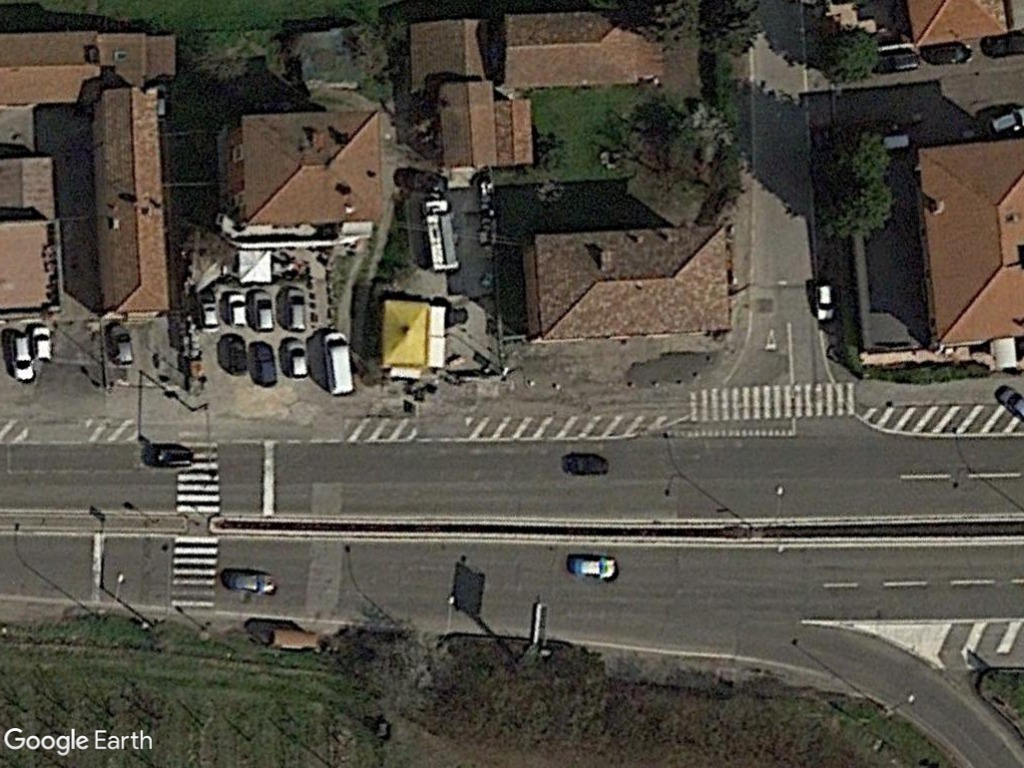car: (222, 568, 282, 599), (6, 328, 38, 385), (919, 39, 975, 70), (281, 282, 313, 336), (567, 553, 621, 583), (283, 336, 314, 386), (108, 322, 139, 369), (249, 286, 275, 336), (224, 288, 251, 332), (812, 281, 838, 326), (197, 292, 223, 337), (31, 323, 52, 366)
other: (419, 191, 464, 279)
van: (319, 327, 358, 399)
